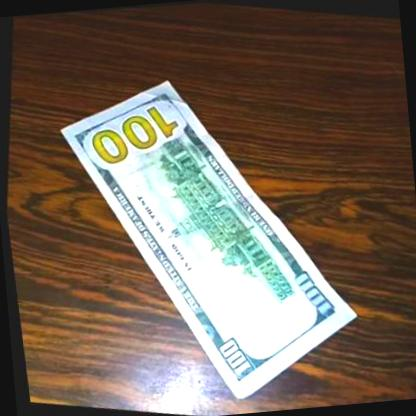one_hundred-back: (11, 39, 402, 416)
